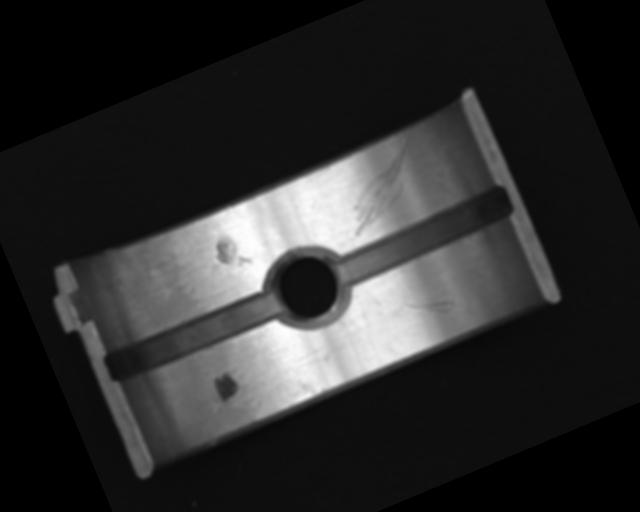blot: (211, 369, 242, 404)
bruise: (210, 231, 253, 275)
gap: (328, 181, 519, 291), (103, 285, 285, 386)
hole: (253, 234, 359, 341)
nick: (327, 137, 436, 238), (391, 283, 457, 333)
